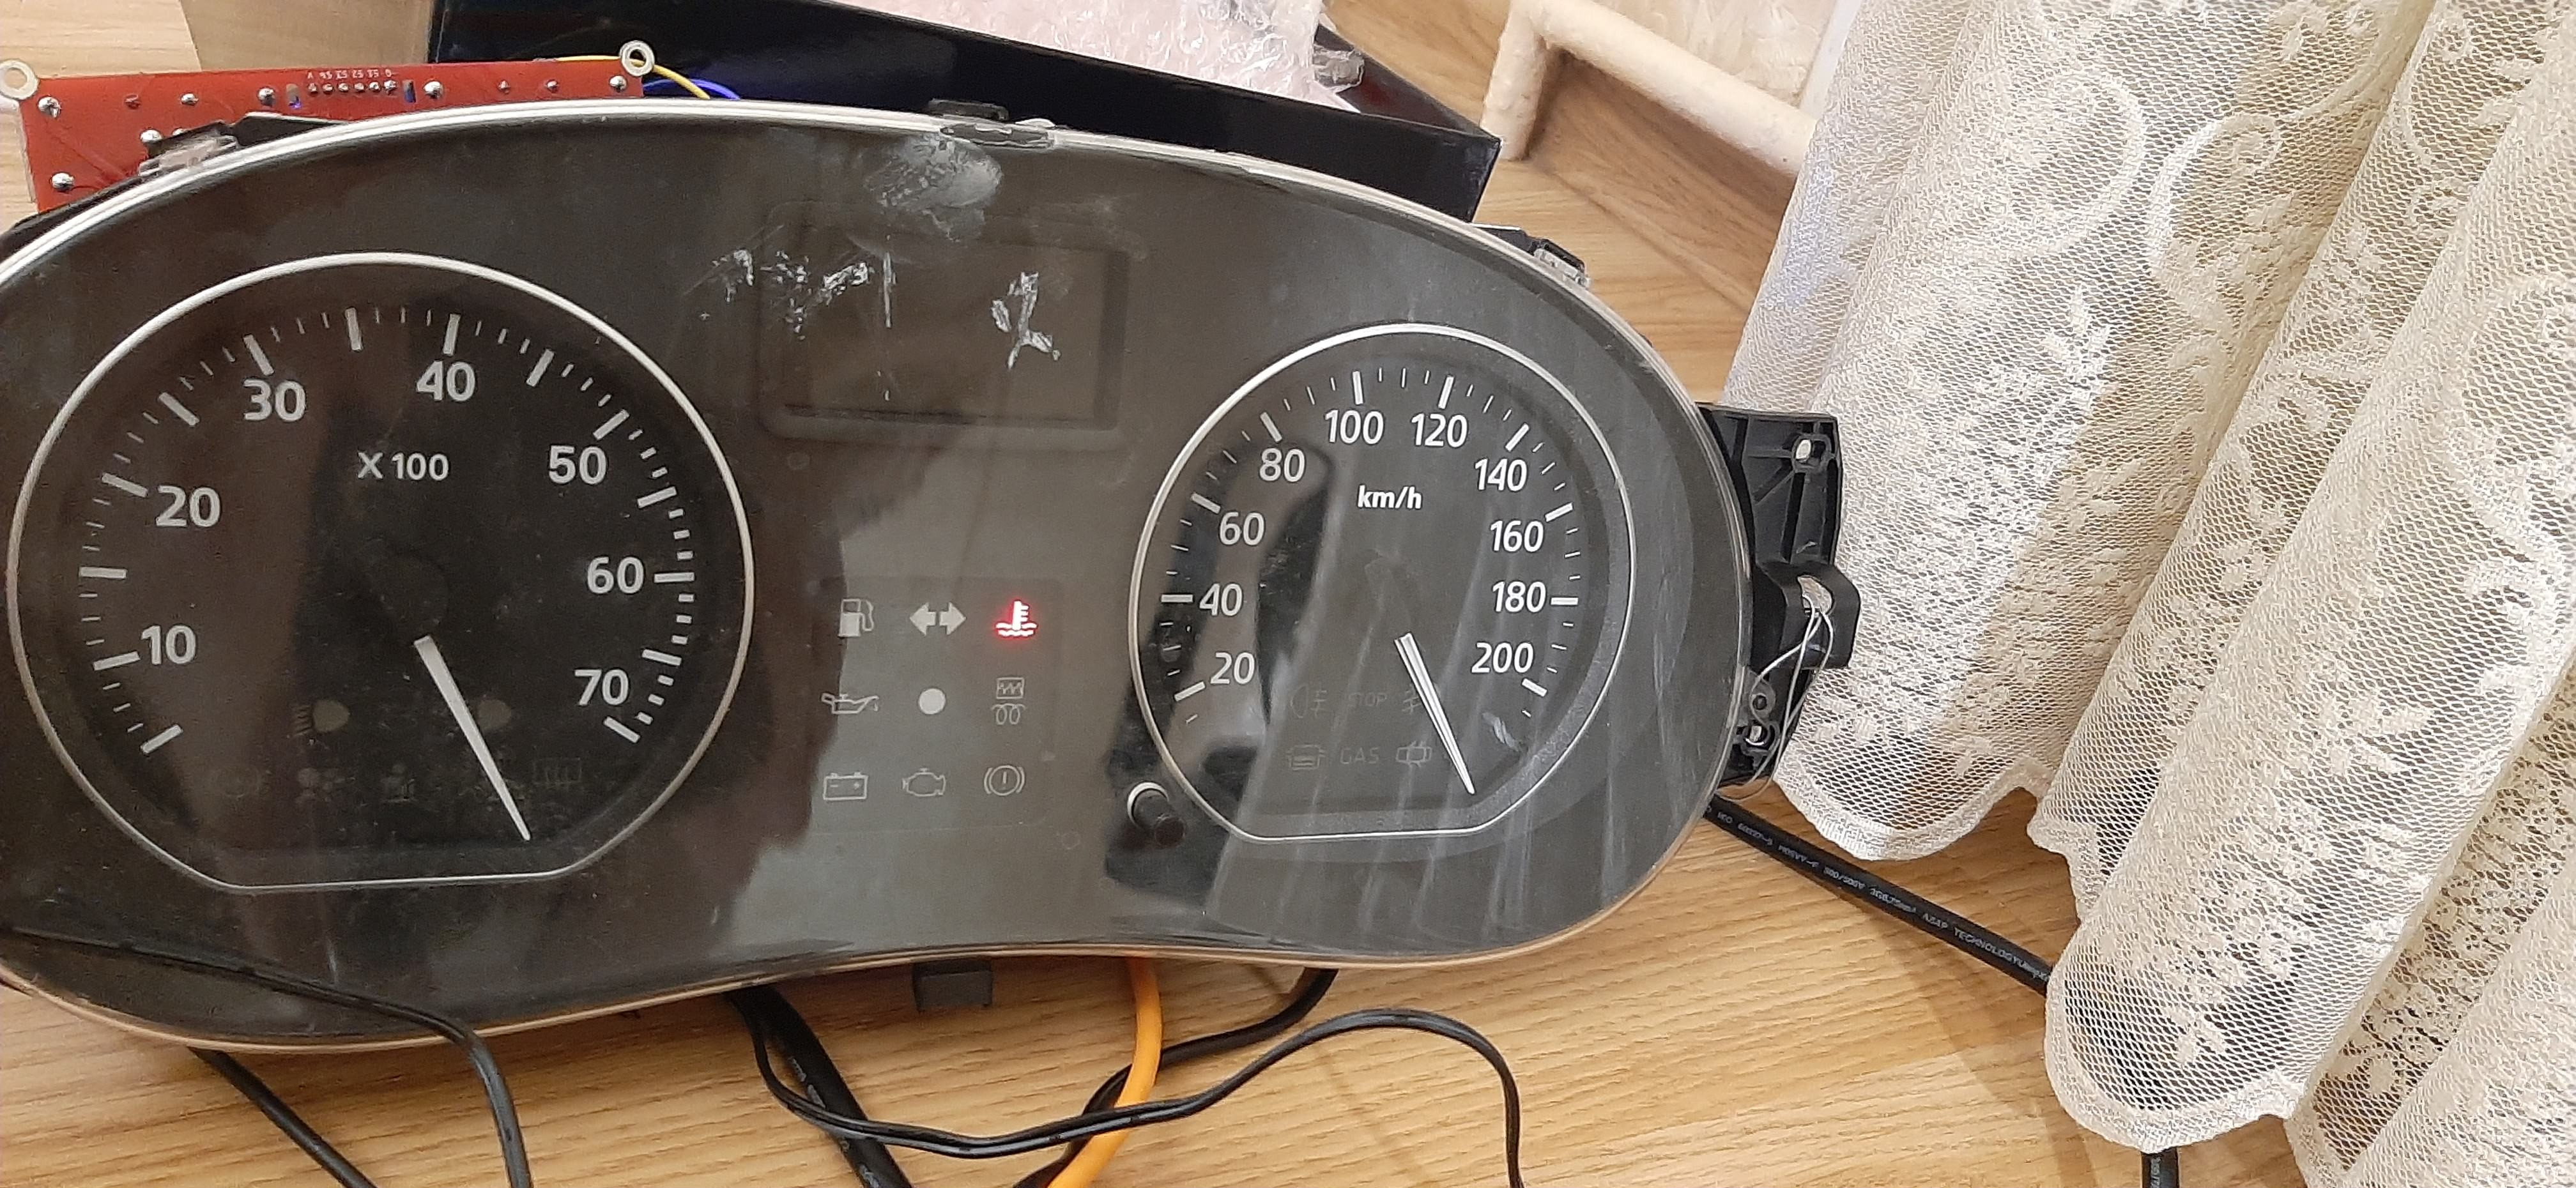Engine Overheating16: (994, 600, 1040, 638)
